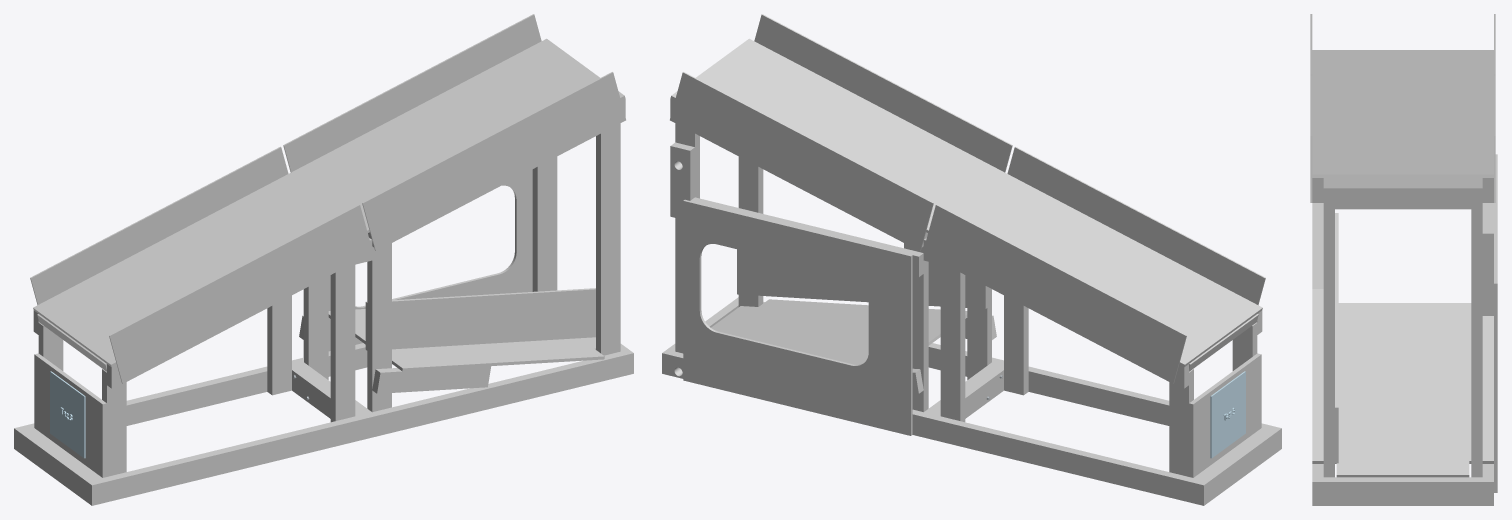
Rendered from RedOven.fbx.
The picture shows the model from 3 angles, left to right: view 1: azimuth 30°, elevation 25°; view 2: azimuth 150°, elevation 25°; view 3: azimuth 270°, elevation 25°; orthographic projection. The views are drawn at different scales.
Parts seen in each view (by area): view 1: mesh316_mesh, mesh194_mesh, mesh336_mesh, mesh188_mesh, mesh272_mesh, mesh214_mesh, mesh292_mesh, mesh342_mesh, mesh240_mesh, mesh260_mesh, mesh164_mesh, mesh220_mesh (+13 smaller); view 2: mesh220_mesh, mesh316_mesh, mesh194_mesh, mesh292_mesh, mesh214_mesh, mesh188_mesh, mesh336_mesh, mesh164_mesh, mesh380_mesh, mesh272_mesh, mesh310_mesh, mesh342_mesh (+14 smaller); view 3: mesh164_mesh, mesh194_mesh, mesh316_mesh, mesh136_mesh, mesh148_mesh, mesh260_mesh, mesh398_mesh, mesh158_mesh, mesh220_mesh, mesh342_mesh, mesh272_mesh, mesh246_mesh (+5 smaller).
Part boxes in pixels (bbox=[...]): mesh316_mesh: bbox=[33, 173, 368, 367]; mesh194_mesh: bbox=[290, 38, 625, 232]; mesh336_mesh: bbox=[109, 204, 372, 383]; mesh188_mesh: bbox=[362, 72, 625, 250]; mesh272_mesh: bbox=[365, 288, 595, 350]; mesh214_mesh: bbox=[283, 14, 541, 172]; mesh292_mesh: bbox=[30, 146, 288, 305]; mesh342_mesh: bbox=[107, 414, 368, 500]; mesh240_mesh: bbox=[364, 351, 625, 438]; mesh260_mesh: bbox=[596, 123, 620, 355]; mesh164_mesh: bbox=[328, 309, 604, 371]; mesh220_mesh: bbox=[303, 169, 532, 357]; mesh220_mesh: bbox=[683, 199, 912, 435]; mesh316_mesh: bbox=[927, 173, 1262, 367]; mesh194_mesh: bbox=[670, 38, 1005, 232]; mesh292_mesh: bbox=[923, 204, 1186, 383]; mesh214_mesh: bbox=[670, 72, 933, 250]; mesh188_mesh: bbox=[754, 14, 1012, 172]; mesh336_mesh: bbox=[1007, 146, 1265, 305]; mesh164_mesh: bbox=[711, 299, 967, 364]; mesh380_mesh: bbox=[927, 414, 1188, 500]; mesh272_mesh: bbox=[737, 249, 987, 309]; mesh310_mesh: bbox=[940, 262, 965, 422]; mesh342_mesh: bbox=[1001, 362, 1169, 425]; mesh164_mesh: bbox=[1312, 303, 1493, 477]; mesh194_mesh: bbox=[1312, 112, 1493, 177]; mesh316_mesh: bbox=[1312, 50, 1493, 112]; mesh136_mesh: bbox=[1312, 477, 1493, 505]; mesh148_mesh: bbox=[1471, 188, 1482, 477]; mesh260_mesh: bbox=[1323, 188, 1334, 477]; mesh398_mesh: bbox=[1335, 188, 1471, 209]; mesh158_mesh: bbox=[1323, 178, 1482, 188]; mesh220_mesh: bbox=[1494, 154, 1497, 492]; mesh342_mesh: bbox=[1312, 203, 1323, 288]; mesh272_mesh: bbox=[1335, 213, 1338, 463]; mesh246_mesh: bbox=[1482, 222, 1493, 291].
Size of the model in its own units: 244 by 132 by 62.86.
